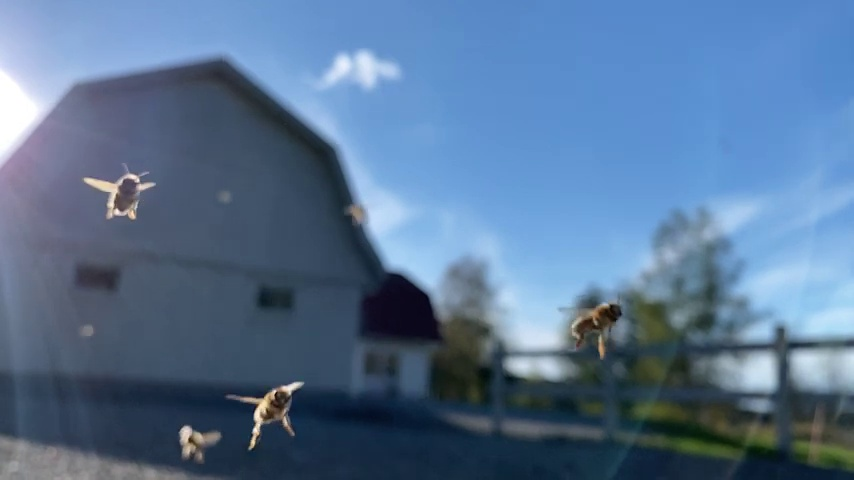insect: (222, 381, 310, 448), (557, 292, 625, 358), (80, 166, 154, 224)
